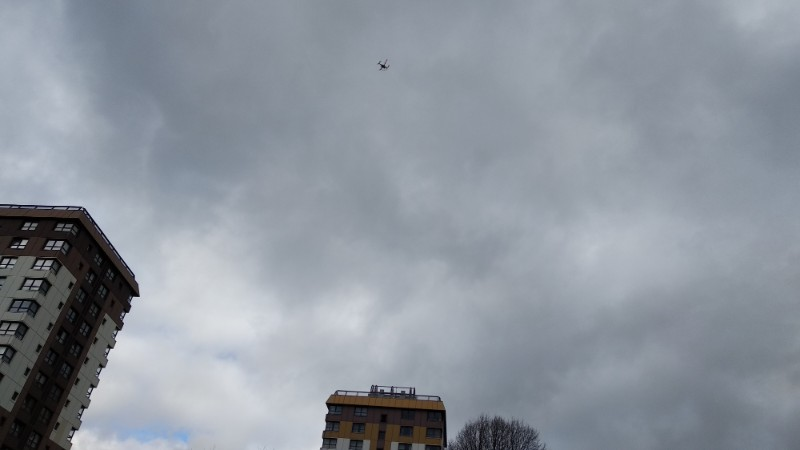drone: (377, 59, 389, 70)
